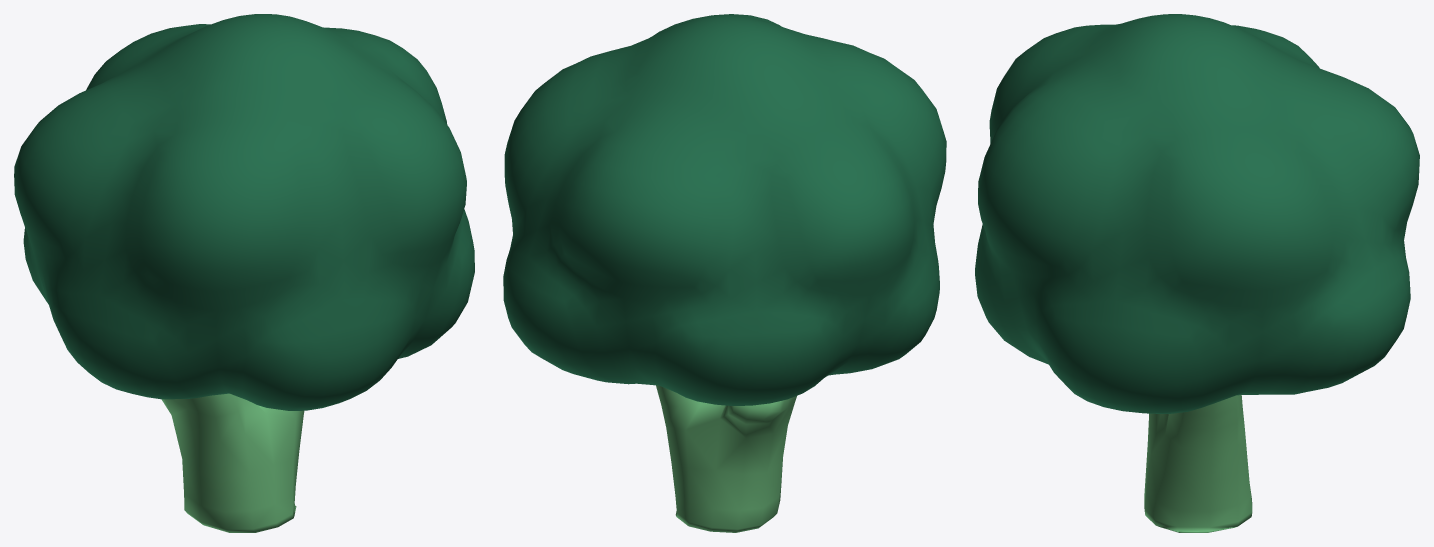
File: Broccoli_03.dae
3 views of the same model, side by side, from view 1: azimuth 30°, elevation 25°; view 2: azimuth 150°, elevation 25°; view 3: azimuth 270°, elevation 25° (orthographic). The views are drawn at different scales.
Visible parts, largest first — view 1: Broccoli_03_LOD0; view 2: Broccoli_03_LOD0; view 3: Broccoli_03_LOD0.
Boxes of the visible parts, x1,y1,x2,y2 form: Broccoli_03_LOD0: (14, 14, 474, 532); Broccoli_03_LOD0: (503, 14, 946, 532); Broccoli_03_LOD0: (975, 14, 1419, 532).
Size of what is drawn, in the model's own units: 4.75 by 4.63 by 5.62.
